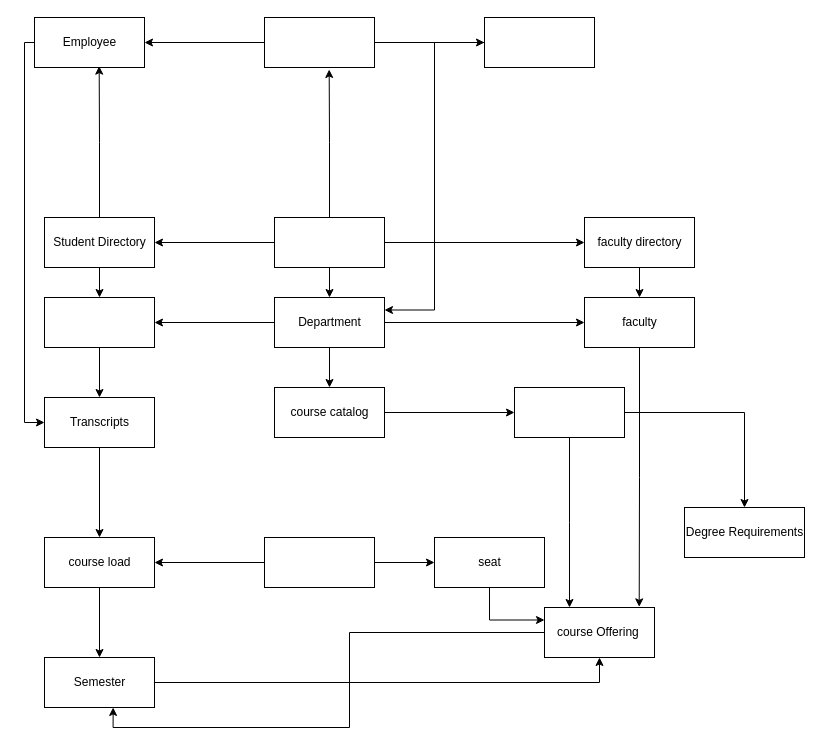
This 822x753 diagram has some shape labels left out. Here are the shapes that lost their labels. From the top down, the centre of each, then its label:
At pixel 319 42: "Employee Directory".
At pixel 539 42: "Employee List".
At pixel 329 242: "University".
At pixel 99 322: "Students".
At pixel 569 412: "courses".
At pixel 319 562: "seat assignment".
